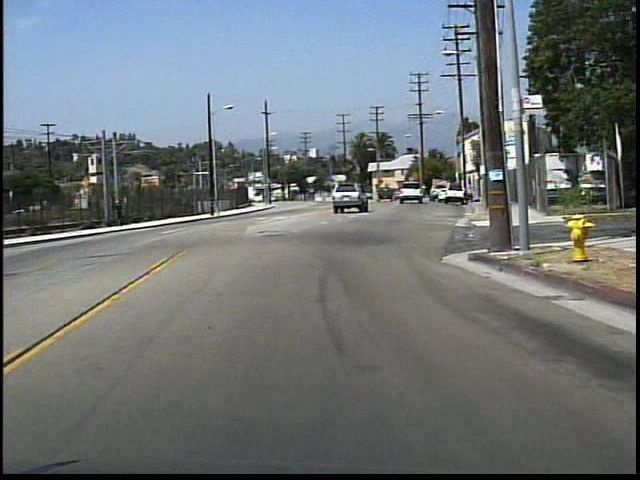person: (114, 196, 129, 228)
